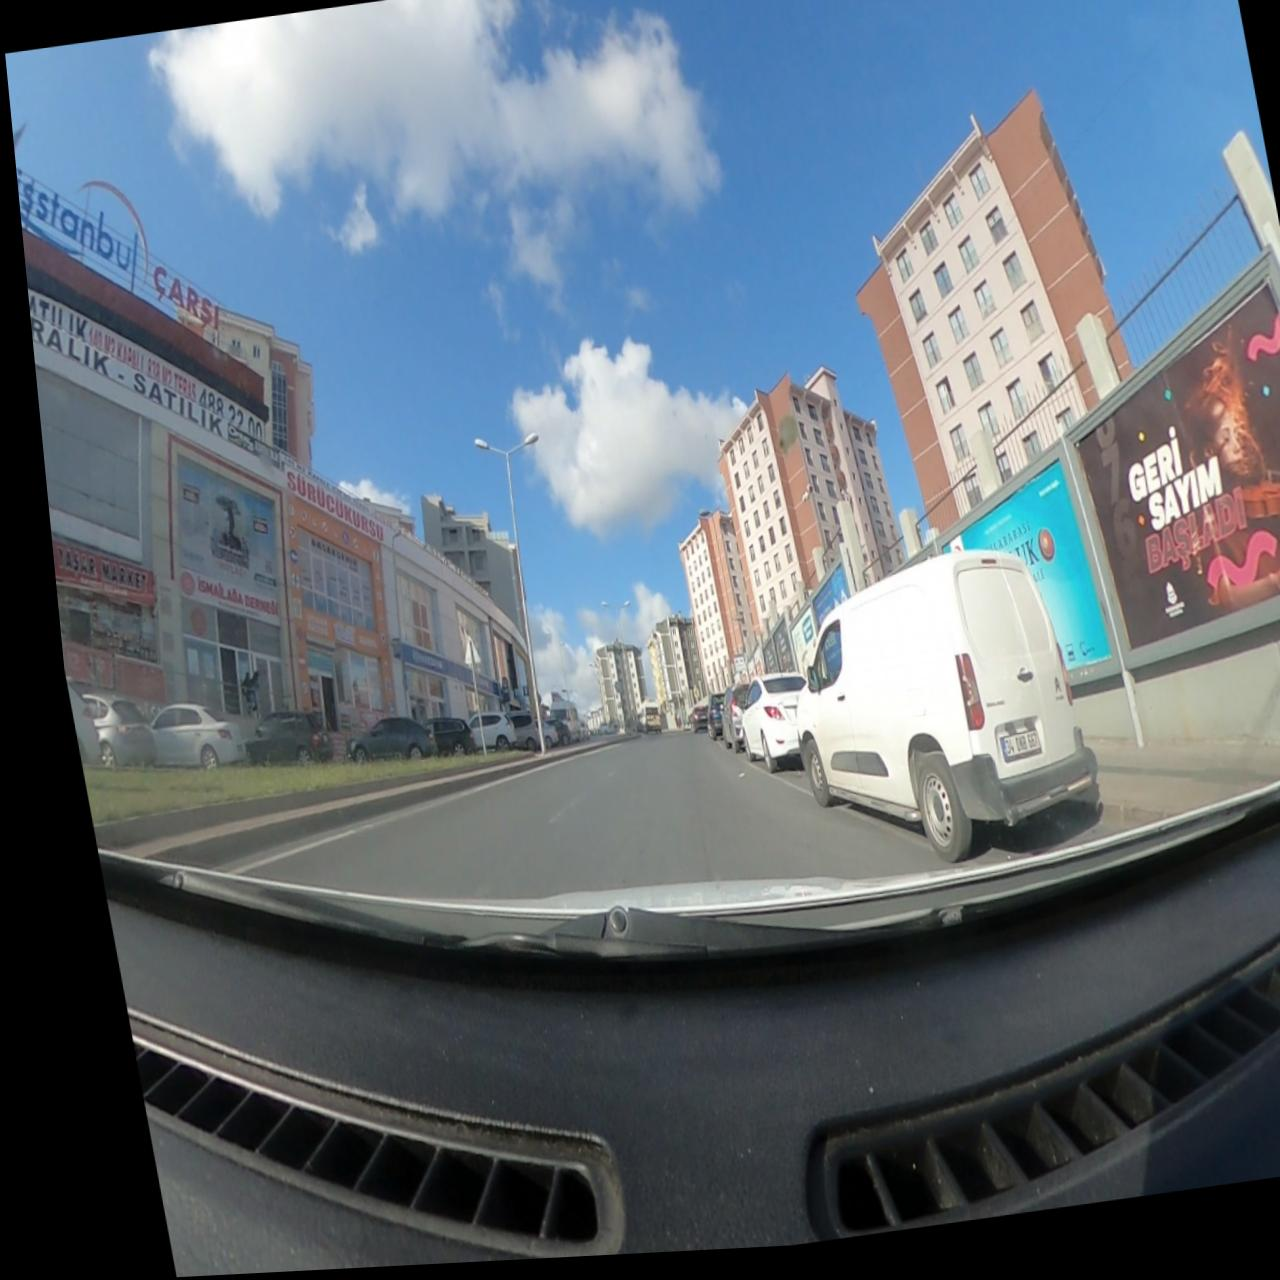SignStore: (278, 470, 374, 549), (41, 542, 142, 606), (170, 570, 266, 627), (389, 647, 442, 682), (320, 624, 343, 654)
